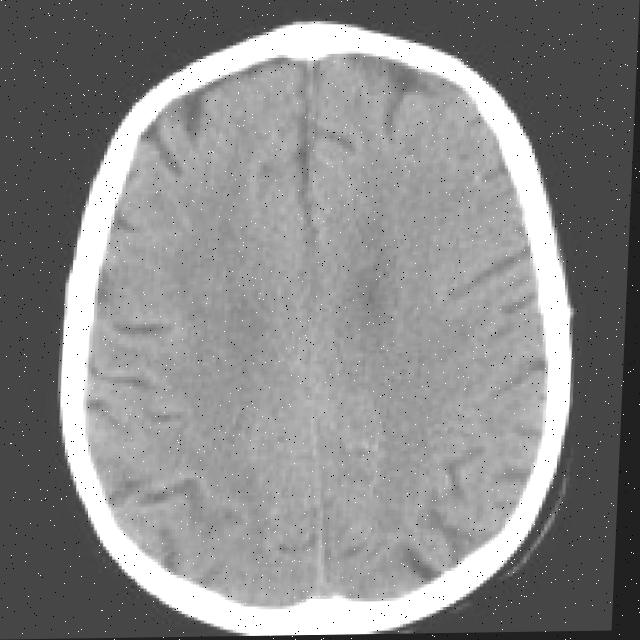NoTumor: (47, 14, 590, 639)
